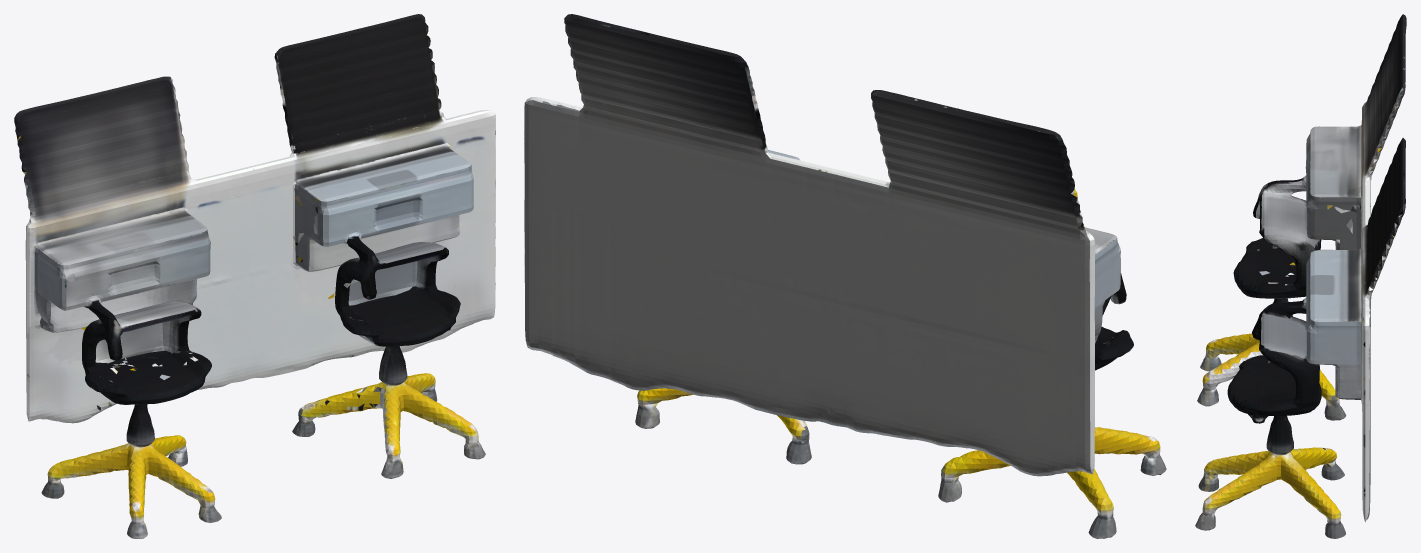
The model's file is workspace1.glb.
3 views of the same model, side by side, from view 1: azimuth 30°, elevation 25°; view 2: azimuth 150°, elevation 25°; view 3: azimuth 270°, elevation 25° (orthographic). The views are drawn at different scales.
Visible parts, largest first — view 1: tmphx20ujcy.ply; view 2: tmphx20ujcy.ply; view 3: tmphx20ujcy.ply.
Part boxes in pixels (x1,y1,x2,y2): tmphx20ujcy.ply: [14, 14, 495, 538]; tmphx20ujcy.ply: [524, 14, 1166, 538]; tmphx20ujcy.ply: [1195, 14, 1406, 538].
Bounding box in the file's own units: 1.96 × 1.43 × 0.7873.
1 material, 1 textured.
